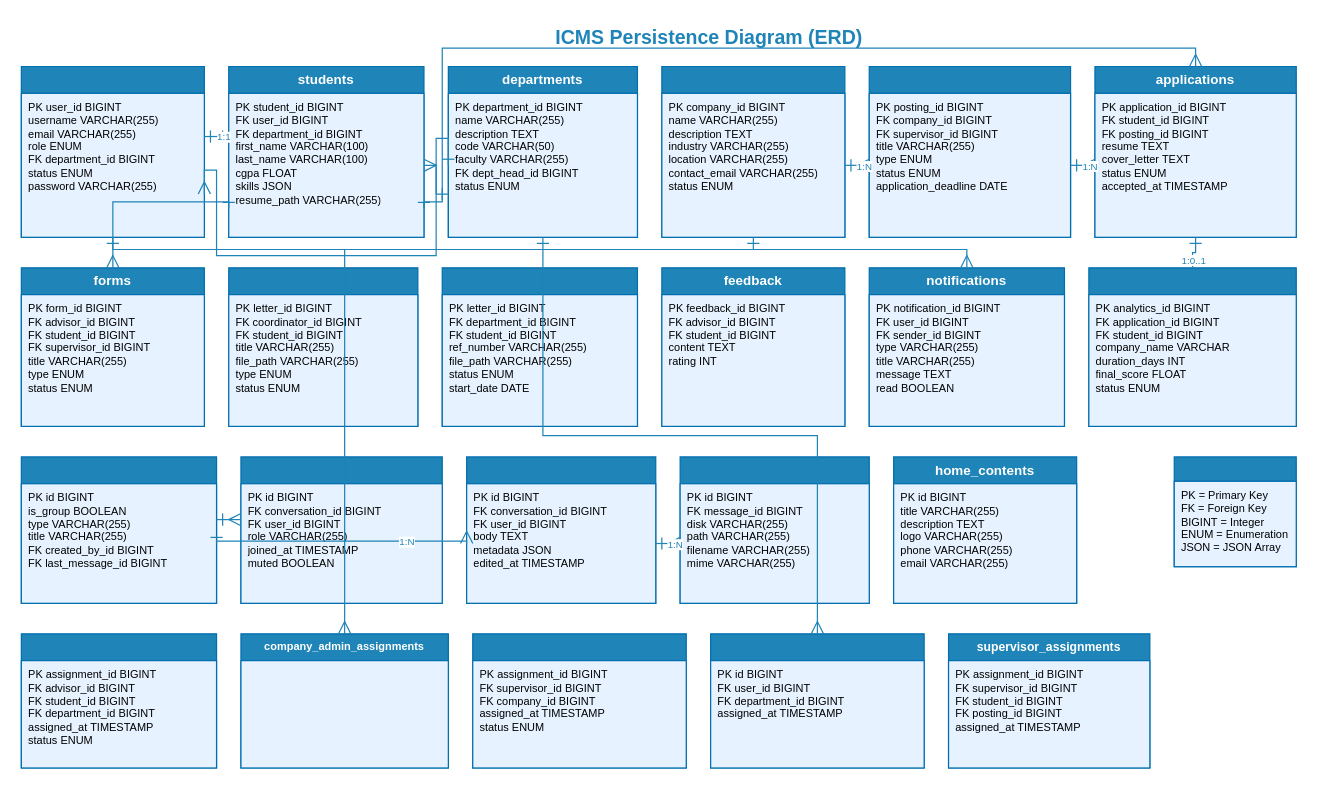
Some shapes in this 1318 by 792 pixel diagram are drawn without their labels. The box of each missing label's shape, as (x1, y1, x2, y2) in pixels:
advisor_assignments: (20, 633, 217, 768)
application_letters: (441, 267, 637, 426)
companies: (661, 65, 845, 237)
company_supervisor_assignments: (472, 633, 686, 768)
conversation_participants: (240, 456, 442, 603)
conversations: (20, 456, 217, 603)
department_head_assignments: (709, 633, 924, 768)
internship_analytics: (1088, 267, 1296, 426)
Legend: (1173, 456, 1296, 567)
letters: (228, 267, 418, 426)
message_attachments: (679, 456, 869, 603)
messages: (465, 456, 656, 603)
PK id BIGINT FK user_id BIGINT FK company_id BIGINT assigned_at TIMESTAMP: (240, 659, 448, 768)
postings: (868, 65, 1071, 237)
users: (20, 65, 204, 237)
